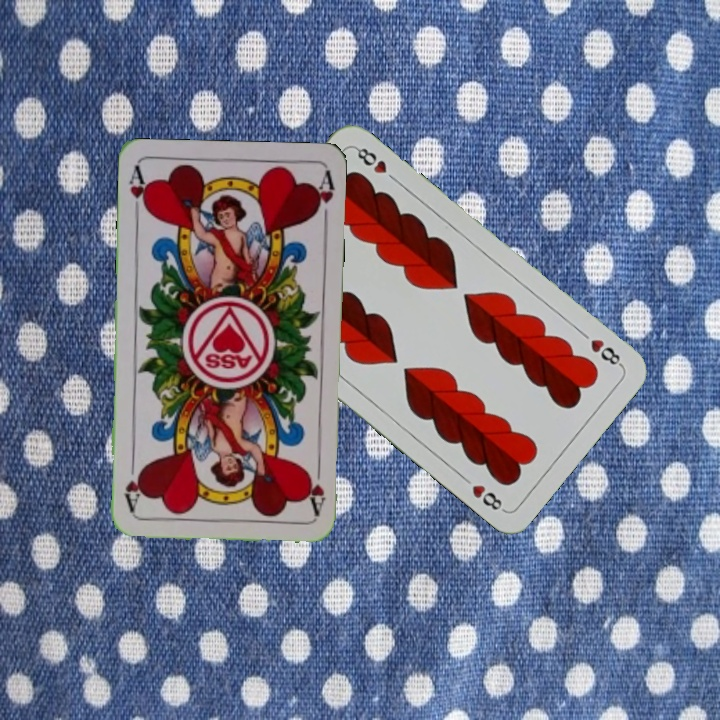H8: (586, 334, 626, 369)
HA: (125, 163, 151, 222), (303, 458, 329, 517)
